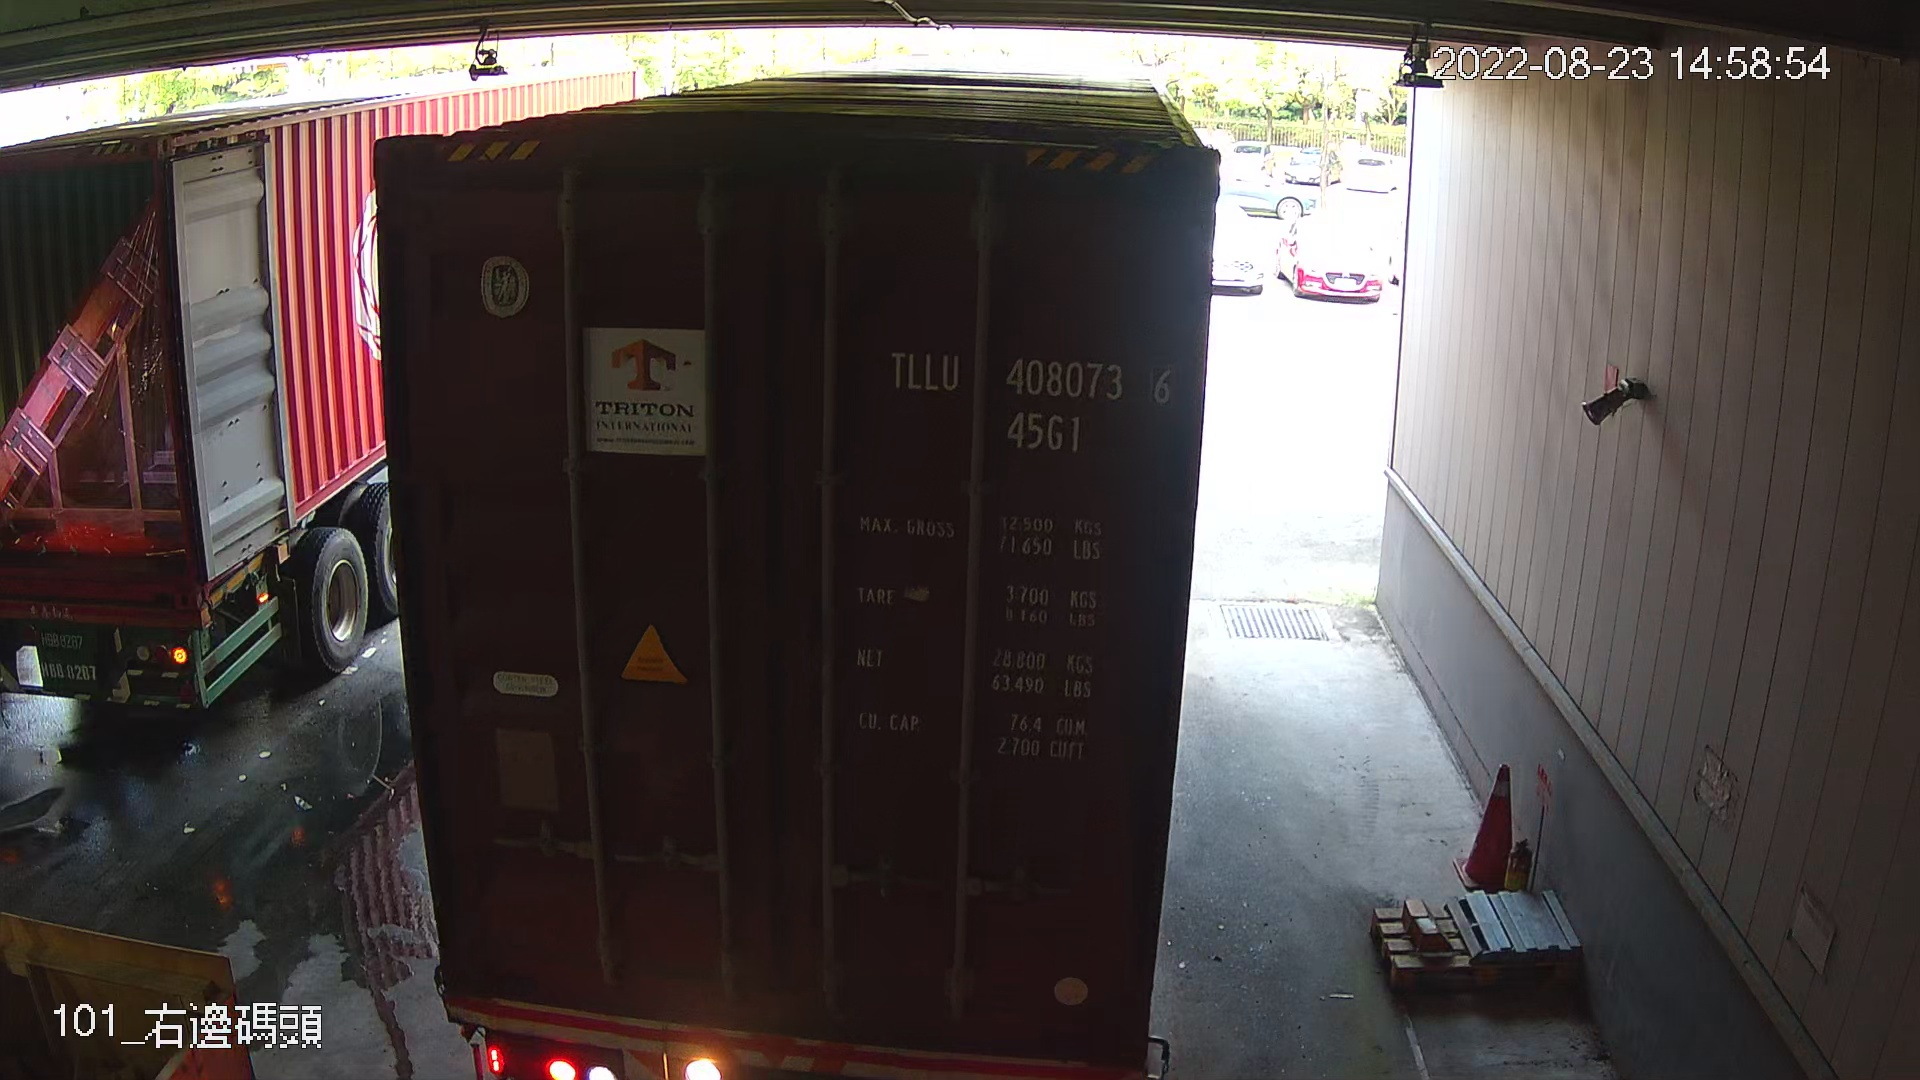container: (876, 335, 1187, 469)
